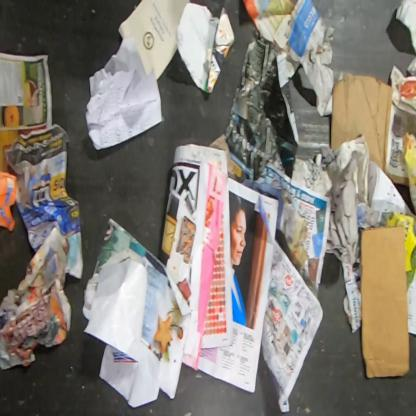cardboard: (330, 70, 415, 188), (360, 223, 409, 379)
